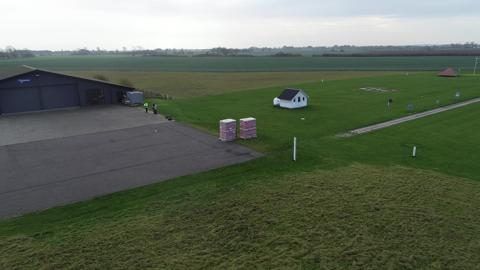RockwoolPallet: (239, 116, 257, 139)
